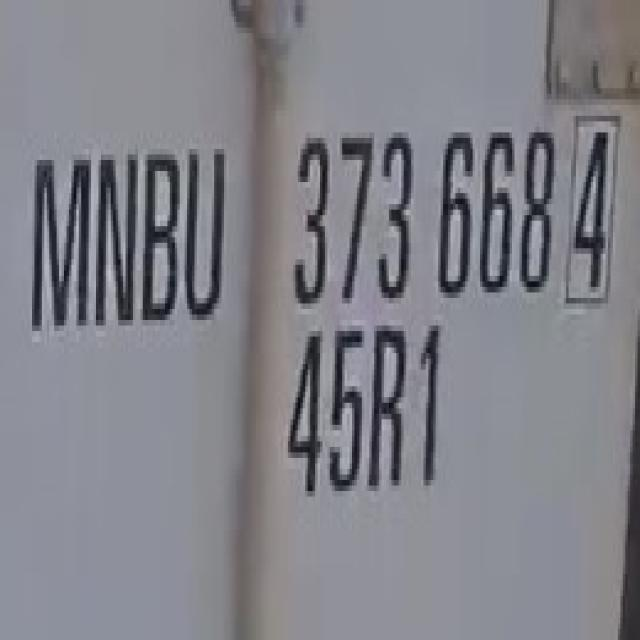dv: (561, 99, 620, 322)
owner: (20, 127, 232, 340)
serial: (288, 99, 558, 322)
size: (272, 300, 453, 505)
